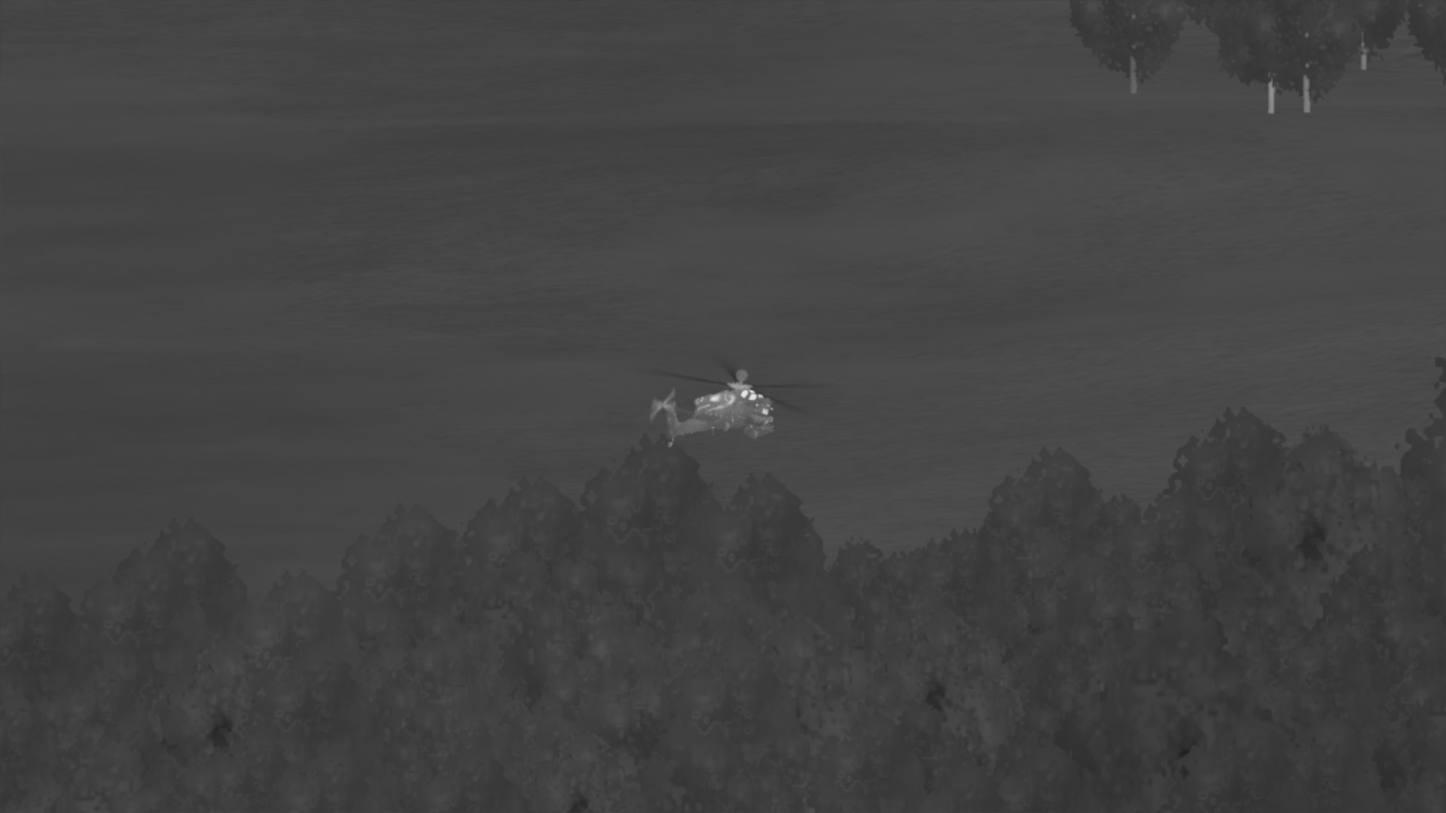mi28: (649, 367, 776, 450)
